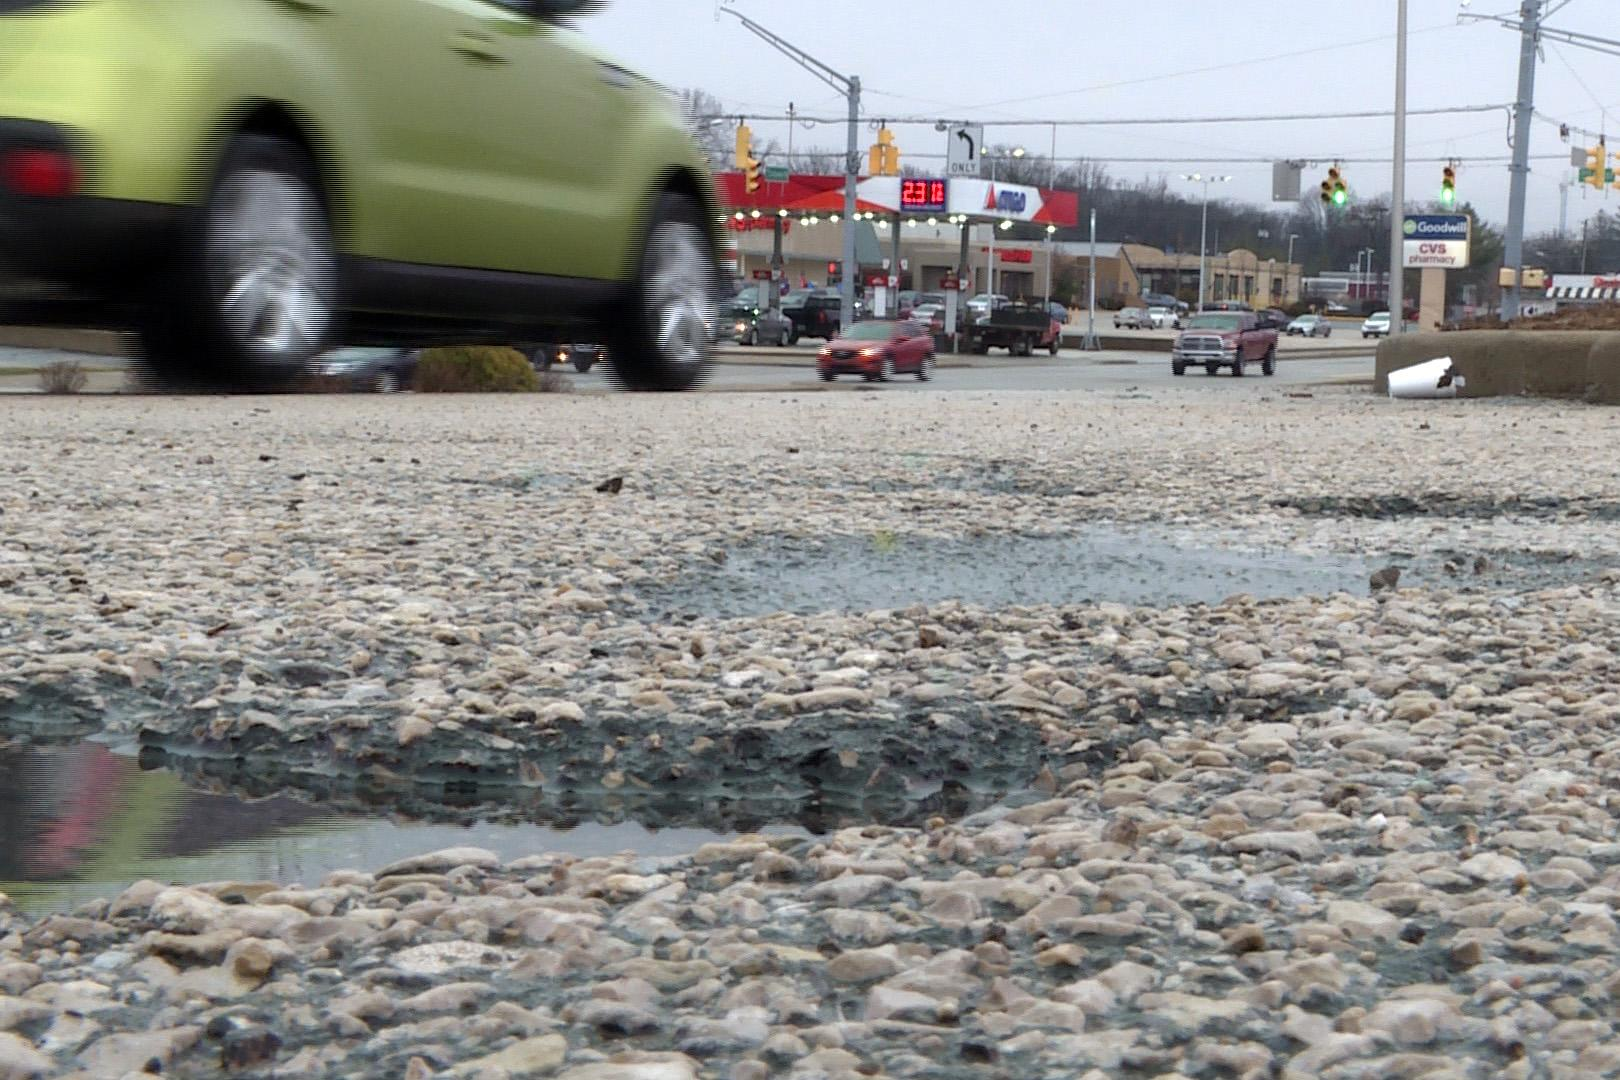Pothole: (0, 618, 1168, 931)
